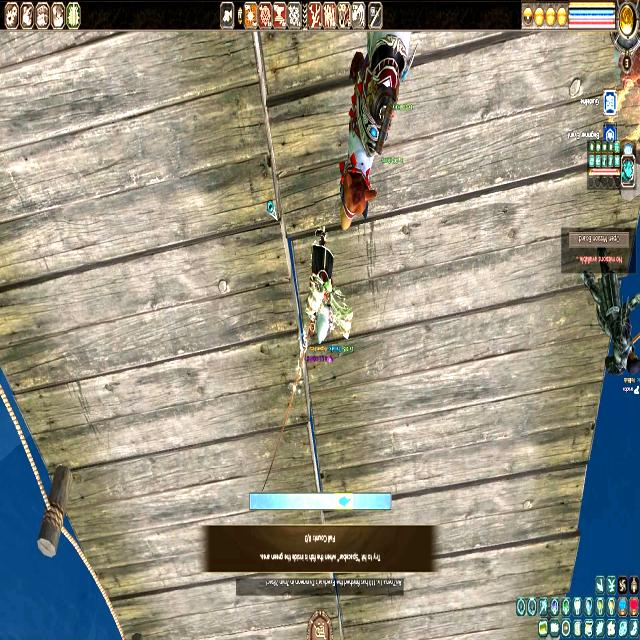fishes: (337, 494, 352, 509)
